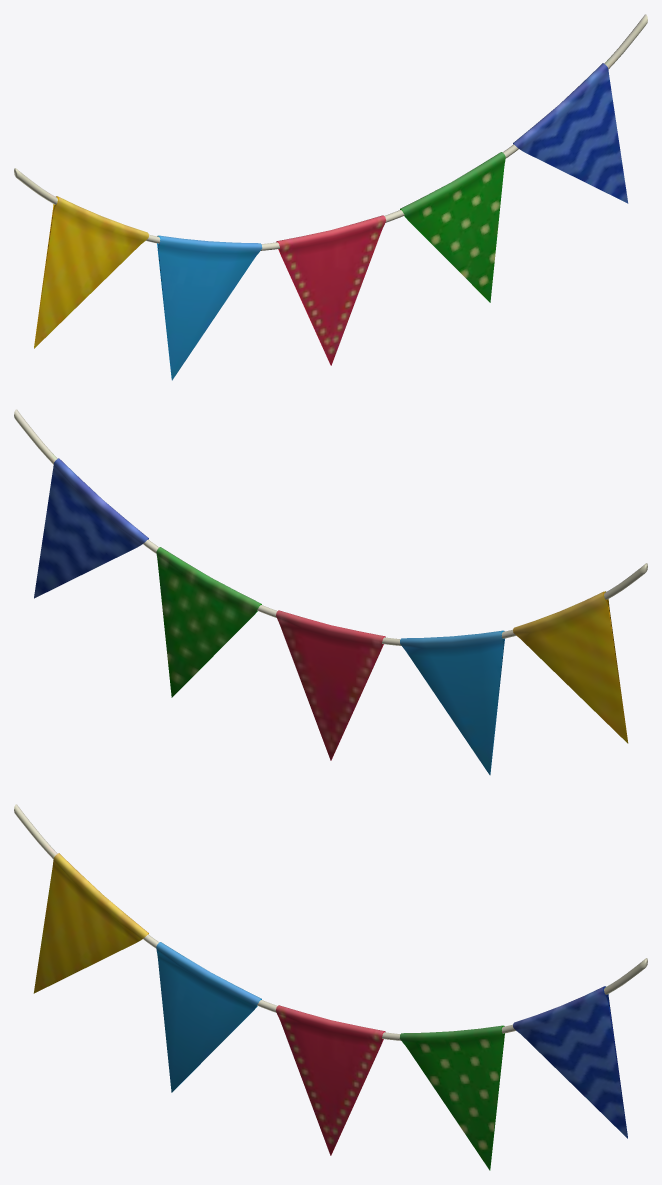
3 renders of one model, top to bottom at view 1: azimuth 30°, elevation 25°; view 2: azimuth 150°, elevation 25°; view 3: azimuth 330°, elevation 25°, orthographic.
Size of the model in its own units: 19.99 by 8.33 by 0.2465.
Materials: 1 (1 with a texture image).
